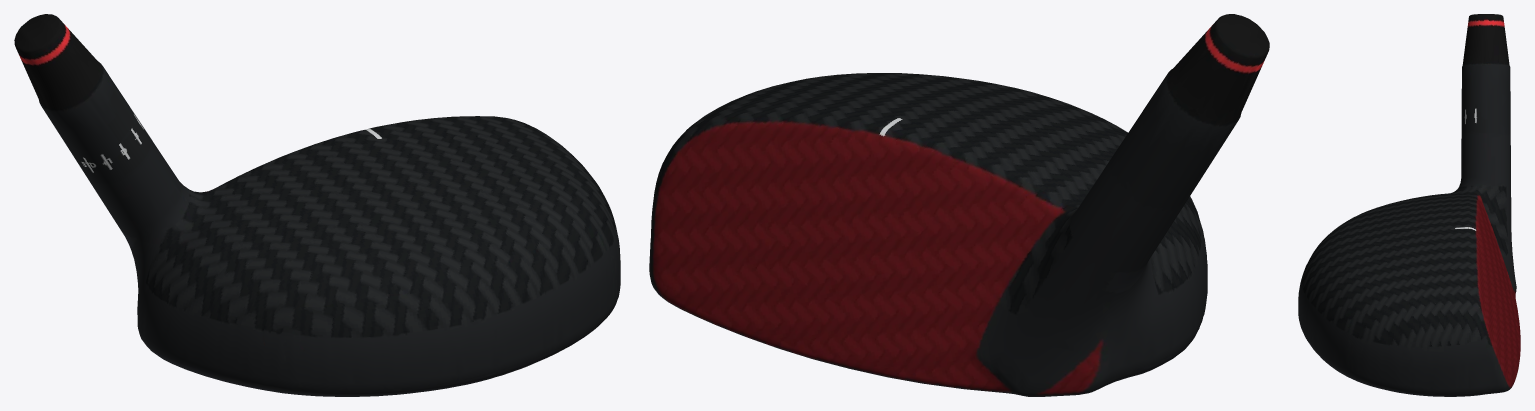
The picture shows the model from 3 angles, left to right: view 1: azimuth 30°, elevation 25°; view 2: azimuth 150°, elevation 25°; view 3: azimuth 270°, elevation 25°; orthographic projection. The views are drawn at different scales.
Parts seen in each view (by area): view 1: head; view 2: head; view 3: head.
Part boxes in pixels (x1=…): head: x1=14, y1=14, x2=620, y2=396; head: x1=649, y1=14, x2=1269, y2=396; head: x1=1298, y1=14, x2=1520, y2=396.
Size of the model in its own units: 0.1156 by 0.0736 by 0.0626.
1 material, 1 textured.
